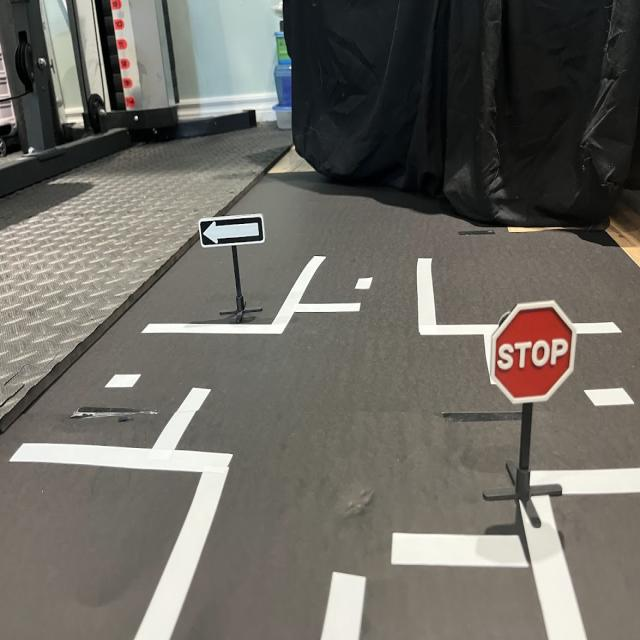sign_oneway_left: (199, 210, 267, 252)
sign_stop: (491, 303, 577, 404)
